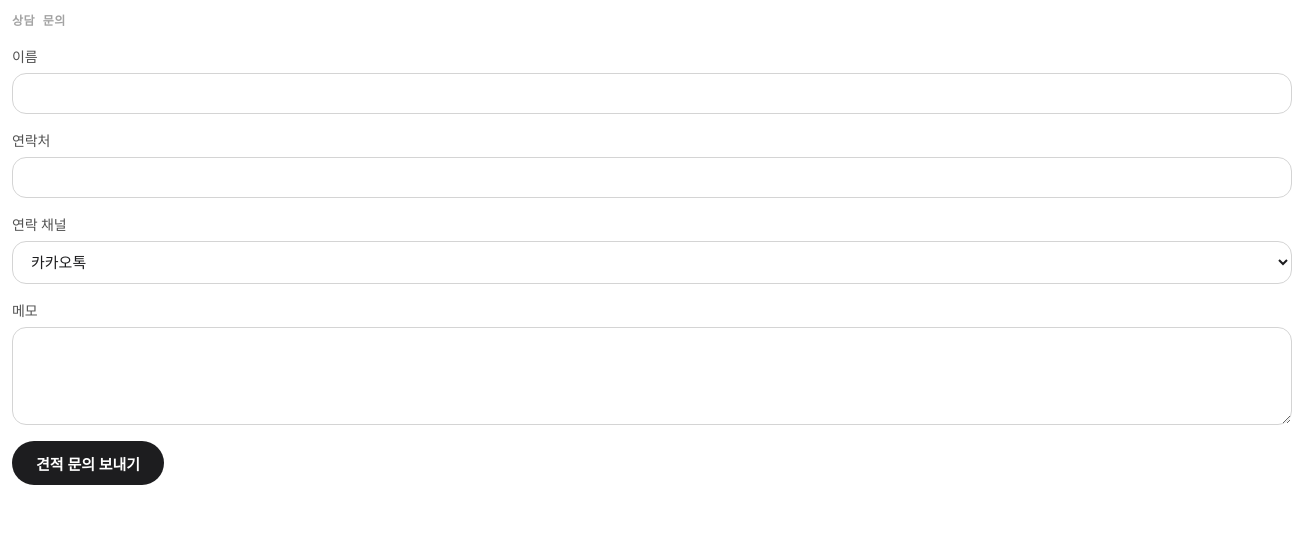
실패 시 에러 표시 + 입력 보존
In the field labelled "이름": (652, 94) [12,73,1292,114], type "홍길동"
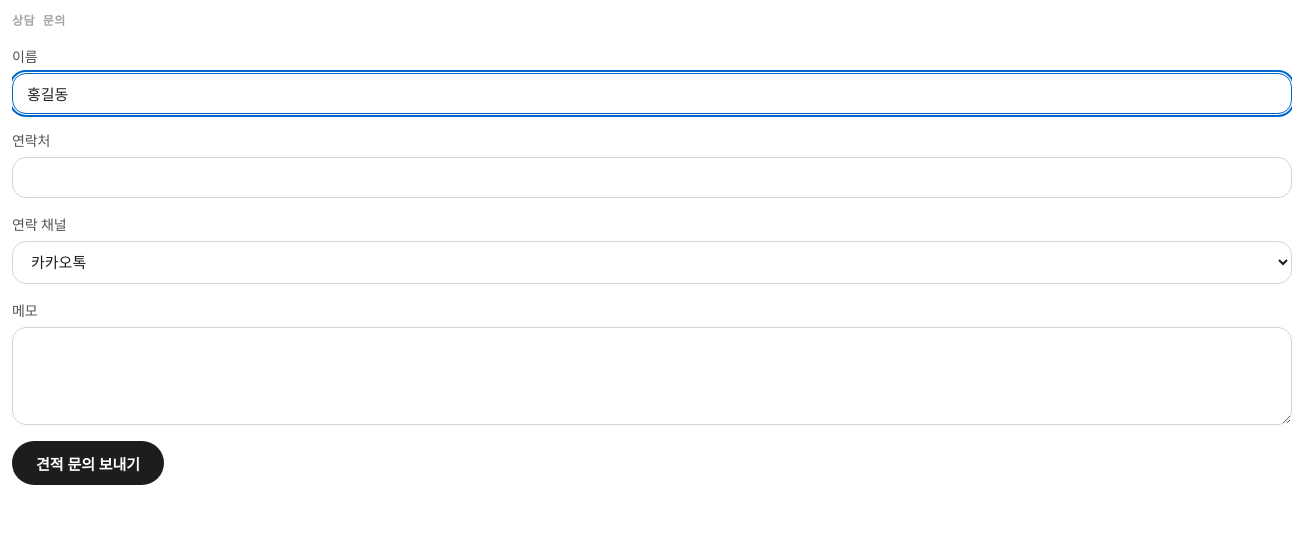
In the field labelled "연락처": (652, 178) [12,157,1292,198], type "kakao_id"
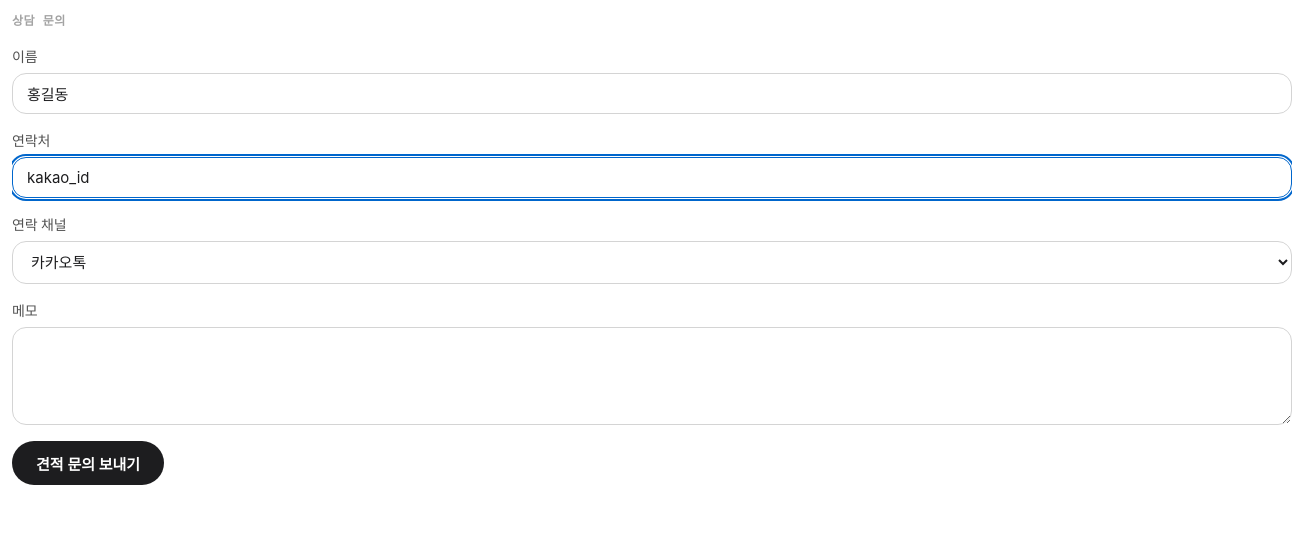
Click the button "견적 문의 보내기": (88, 463) [12,441,164,485]
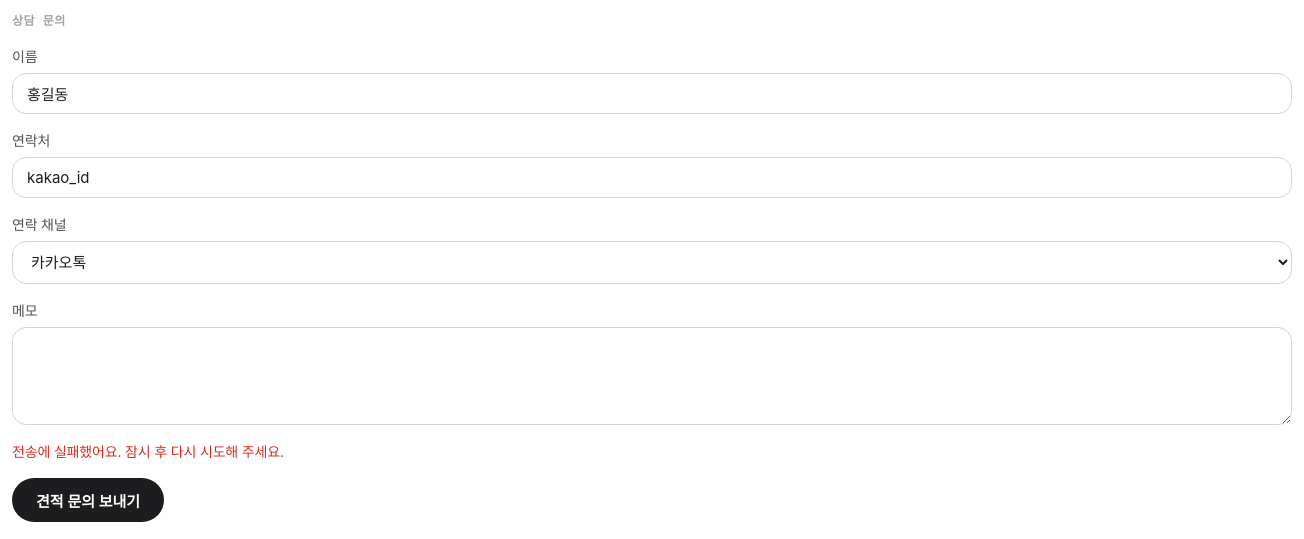
Check: the text "전송에 실패했어요. 잠시 후 다시 시도해 주세요." is shown, box [12,443,284,460]
